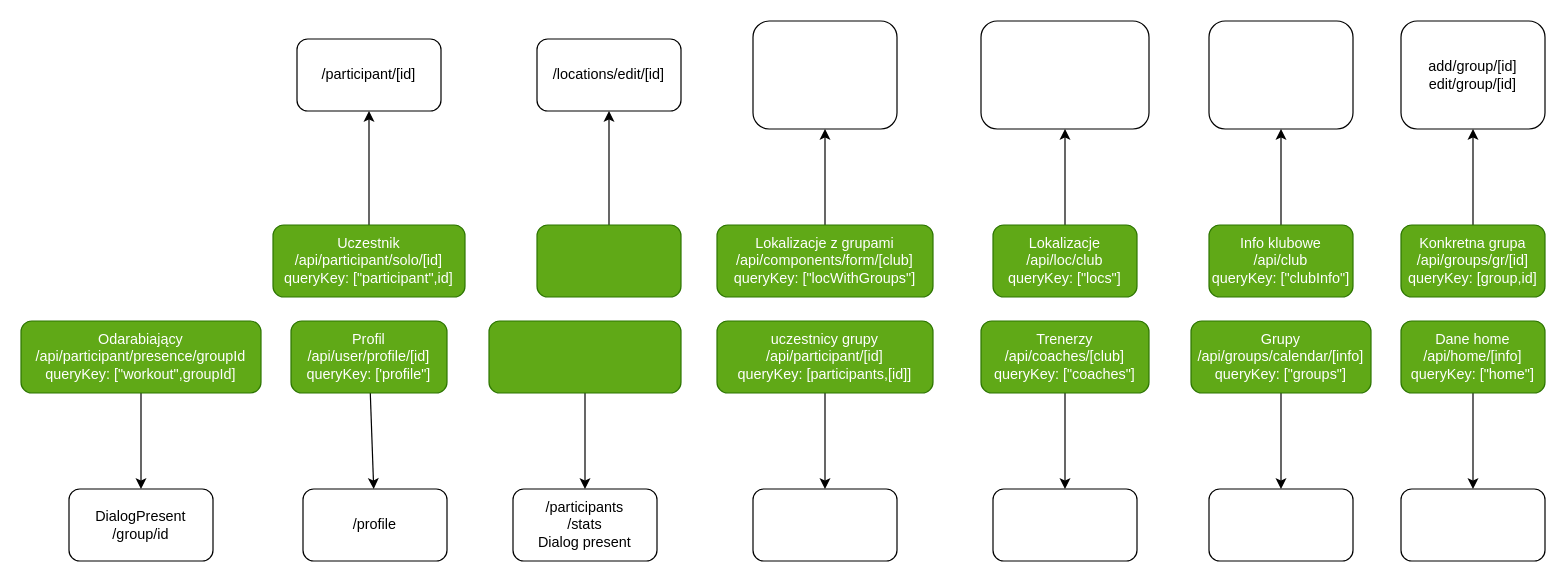
The diagram is 1566 pixels wide and 582 high, and some of its shapes have lost their labels. Each missing label, with the centre of its shape:
/add /home/coaches /participants /stats /group: pixel 824 74
/add/group /add/group/[id] /edit/group/[id] /calendar /home/manageGroups: pixel 1064 74
/calendar /manageGroups: pixel 1280 524
/gome/coaches: pixel 1064 524
/group/[id]: pixel 824 524
/home: pixel 1472 524
add/group add/group/[id] edit/group/[id] /settings /participants: pixel 1280 74
Lokalizacja /api/loc/[id] queryKey: ["loc",[id]}: pixel 608 260
Wszyscy uczestnicy /api/participant/all/[info] queryKey: ["allParticipants"]: pixel 584 356
